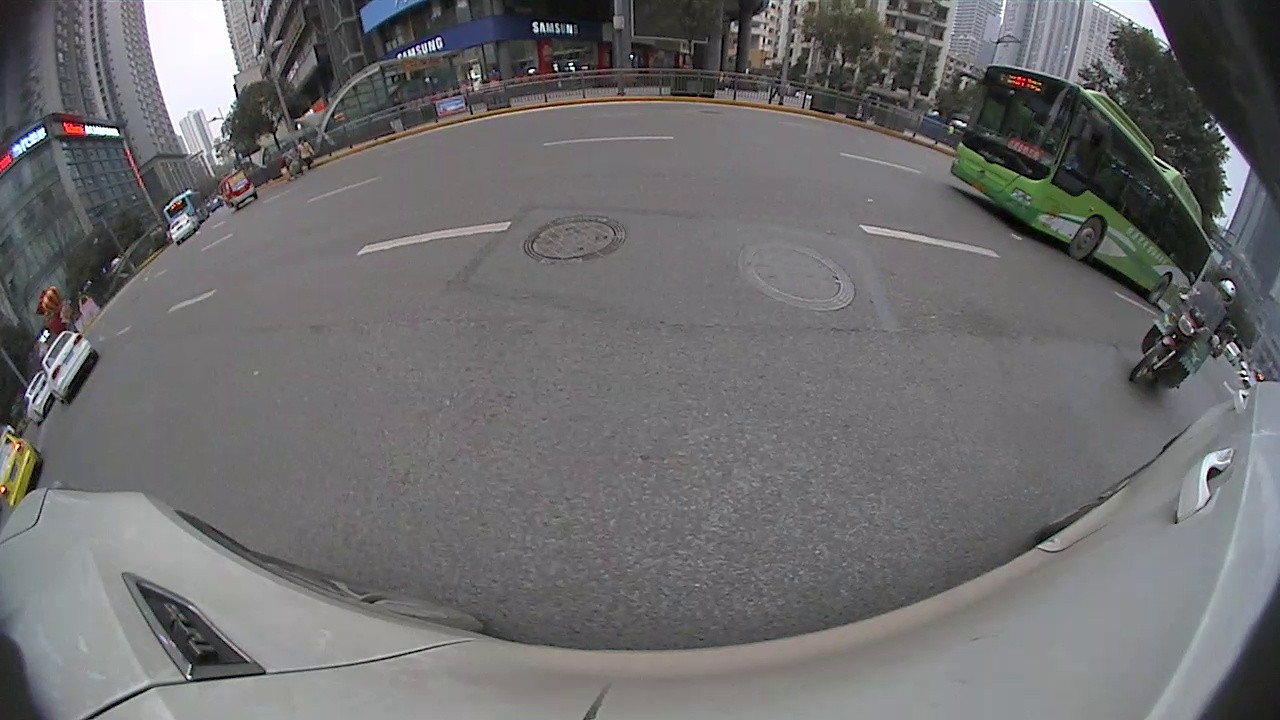bus: (951, 65, 1215, 302), (162, 188, 208, 235)
car: (43, 328, 98, 402), (2, 429, 44, 504), (20, 372, 56, 421), (170, 215, 195, 244)
front: (1068, 213, 1105, 261)
person: (295, 138, 315, 170)
rear: (1144, 274, 1175, 305)
rider: (1129, 279, 1235, 392), (220, 168, 258, 209)
